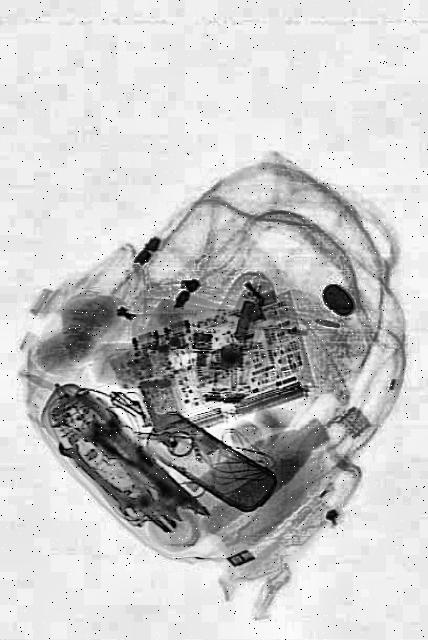Wrench: (85, 398, 197, 520), (54, 426, 136, 522)
